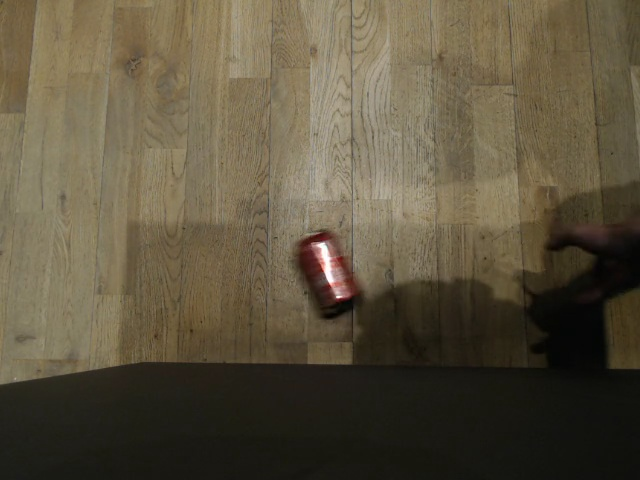cola: (293, 230, 358, 314)
